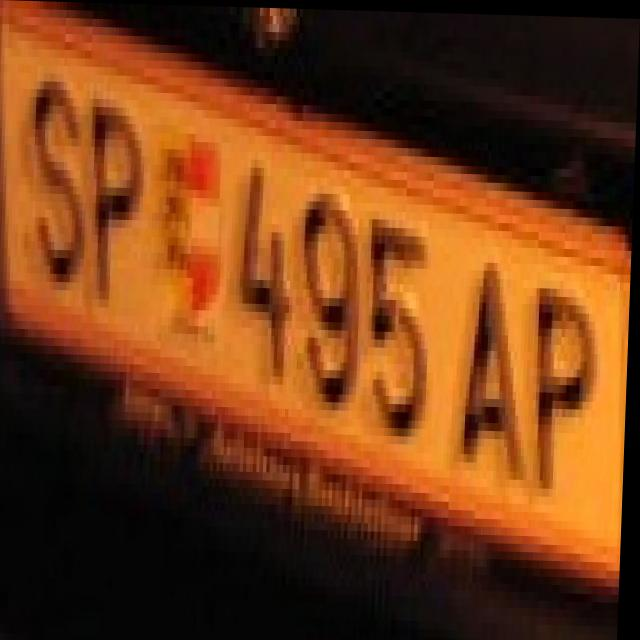4: (225, 134, 300, 399)
5: (367, 201, 434, 450)
9: (298, 159, 366, 417)
A: (455, 251, 537, 501)
P: (529, 269, 606, 510), (84, 82, 148, 323)
S: (21, 57, 88, 306)
